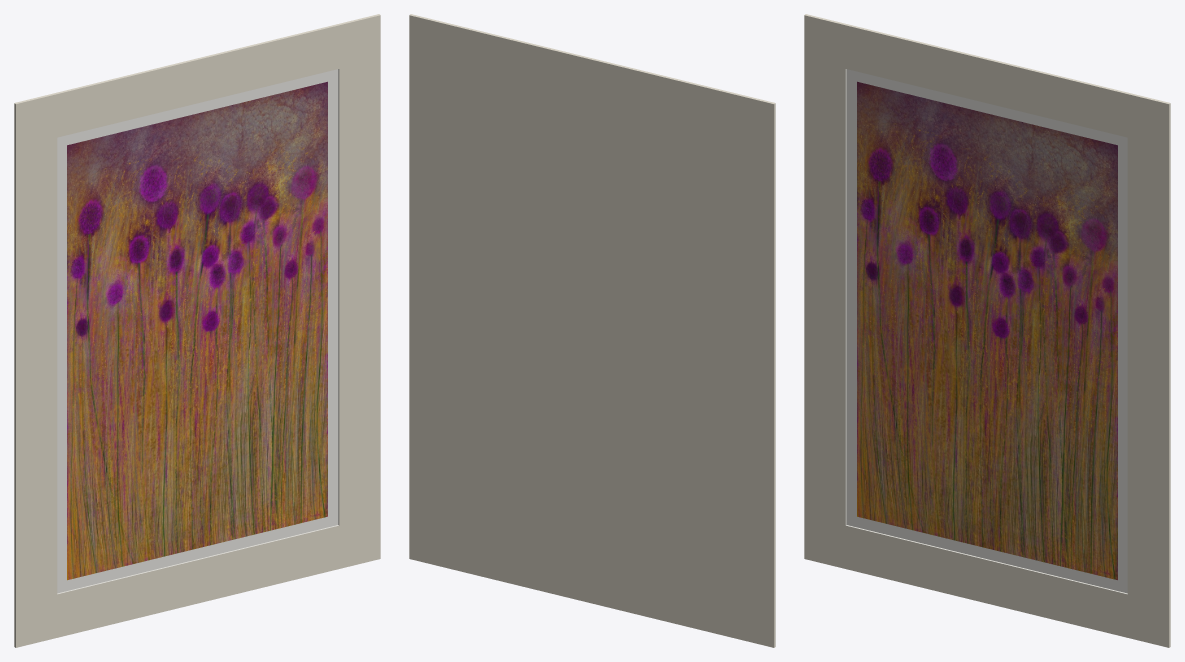
The model's file is os034_moyen_passe-partout.glb.
3 renders of one model, left to right at view 1: azimuth 30°, elevation 25°; view 2: azimuth 150°, elevation 25°; view 3: azimuth 330°, elevation 25°, orthographic.
Parts seen in each view (by area): view 1: os034_moyen_passe-partout; view 2: os034_moyen_passe-partout; view 3: os034_moyen_passe-partout.
Boxes of the visible parts, x1,y1,x2,y2 form: os034_moyen_passe-partout: (14, 14, 380, 647); os034_moyen_passe-partout: (409, 14, 775, 647); os034_moyen_passe-partout: (804, 14, 1170, 647).
Bounding box in the file's own units: 0.7024 × 1 × 0.0055.
Materials: 4 (1 with a texture image).
